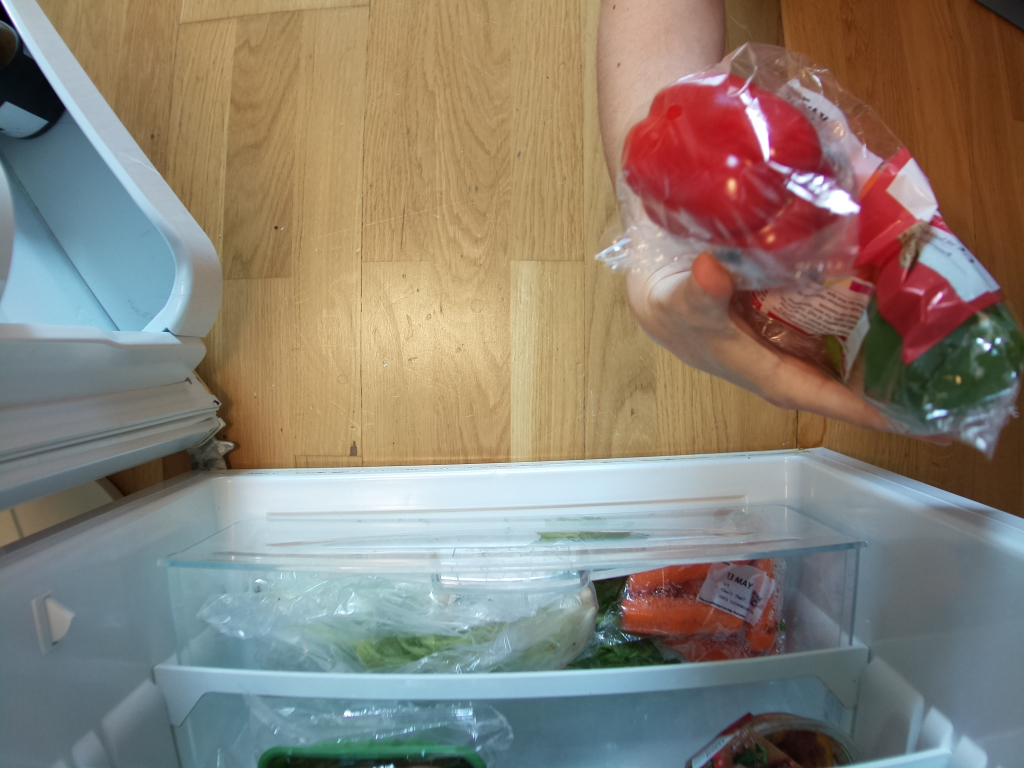pepper: (621, 70, 848, 265), (865, 302, 1013, 429)
